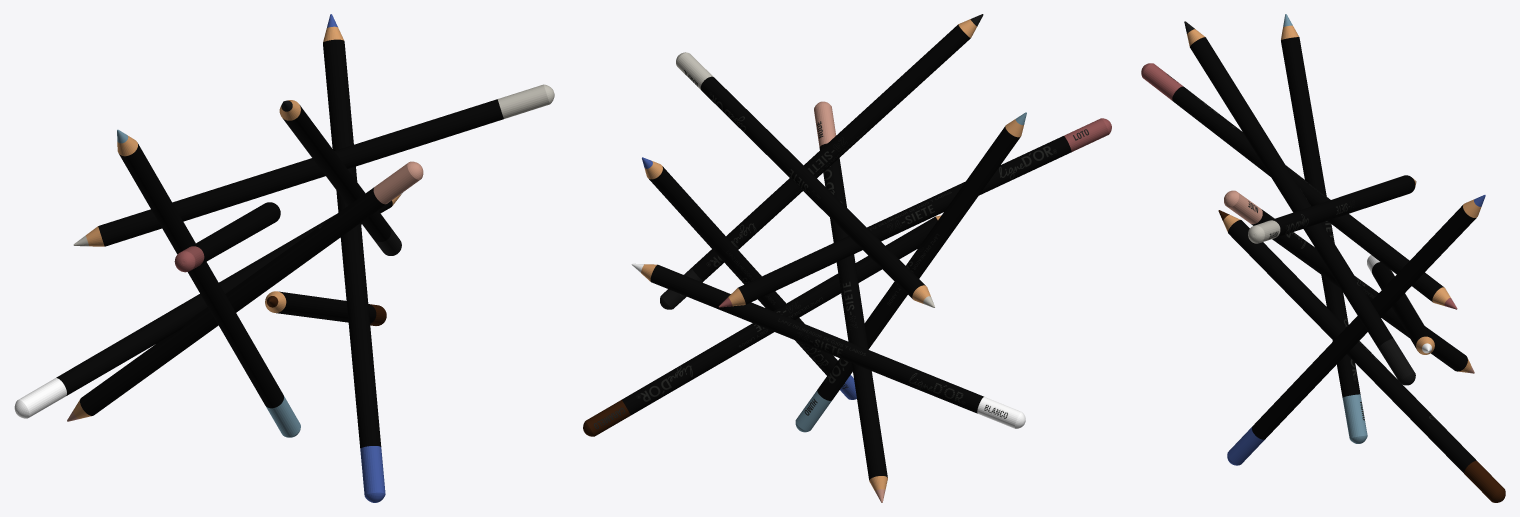
The model's file is lapices.glb.
3 renders of one model, left to right at view 1: azimuth 30°, elevation 25°; view 2: azimuth 150°, elevation 25°; view 3: azimuth 270°, elevation 25°, orthographic. The views are drawn at different scales.
Visible parts, largest first — view 1: LAPIZ.005, LAPIZ.004, LAPIZ.002, LAPIZ.007, LAPIZ, LAPIZ.003, LAPIZ.006, LAPIZ.001; view 2: LAPIZ, LAPIZ.003, LAPIZ.006, LAPIZ.005, LAPIZ.001, LAPIZ.007, LAPIZ.002, LAPIZ.004, ETIQUETA.006, ETIQUETA, ETIQUETA.001, ETIQUETA.003; view 3: LAPIZ.003, LAPIZ.001, LAPIZ.004, LAPIZ.007, LAPIZ.006, LAPIZ.005, LAPIZ.002, LAPIZ.
Boxes of the visible parts, x1=… form: LAPIZ.005: x1=73, y1=84, x2=554, y2=246; LAPIZ.004: x1=323, y1=14, x2=385, y2=502; LAPIZ.002: x1=67, y1=161, x2=423, y2=421; LAPIZ.007: x1=117, y1=129, x2=300, y2=437; LAPIZ: x1=14, y1=192, x2=402, y2=418; LAPIZ.003: x1=279, y1=100, x2=401, y2=255; LAPIZ.006: x1=174, y1=202, x2=280, y2=272; LAPIZ.001: x1=265, y1=291, x2=386, y2=325; LAPIZ: x1=631, y1=263, x2=1025, y2=428; LAPIZ.003: x1=660, y1=14, x2=983, y2=309; LAPIZ.006: x1=718, y1=118, x2=1111, y2=307; LAPIZ.005: x1=676, y1=52, x2=934, y2=307; LAPIZ.001: x1=583, y1=215, x2=941, y2=436; LAPIZ.007: x1=795, y1=112, x2=1026, y2=432; LAPIZ.002: x1=814, y1=101, x2=887, y2=502; LAPIZ.004: x1=642, y1=157, x2=856, y2=399; ETIQUETA.006: x1=870, y1=129, x2=1088, y2=232; ETIQUETA: x1=778, y1=318, x2=1007, y2=418; ETIQUETA.001: x1=593, y1=297, x2=823, y2=429; ETIQUETA.003: x1=679, y1=129, x2=867, y2=296; LAPIZ.003: x1=1184, y1=21, x2=1415, y2=385; LAPIZ.001: x1=1218, y1=210, x2=1505, y2=502; LAPIZ.004: x1=1227, y1=195, x2=1485, y2=465; LAPIZ.007: x1=1281, y1=14, x2=1367, y2=443; LAPIZ.006: x1=1141, y1=63, x2=1457, y2=309; LAPIZ.005: x1=1248, y1=175, x2=1416, y2=243; LAPIZ.002: x1=1224, y1=190, x2=1474, y2=373; LAPIZ: x1=1367, y1=255, x2=1434, y2=354.
Bounding box in the file's own units: 26.76 × 24.65 × 20.8.
Materials: 26 (9 with a texture image).
